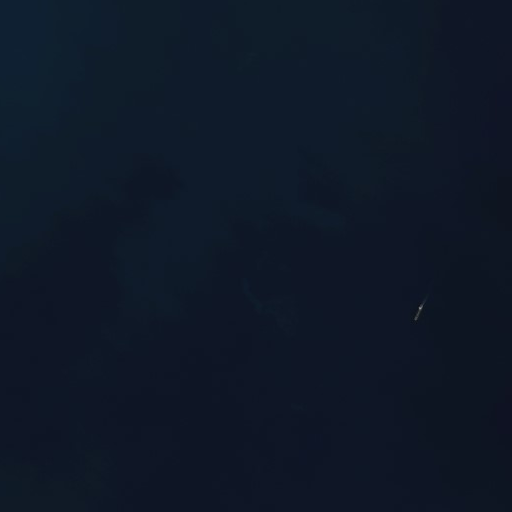ship: (411, 297, 426, 325)
